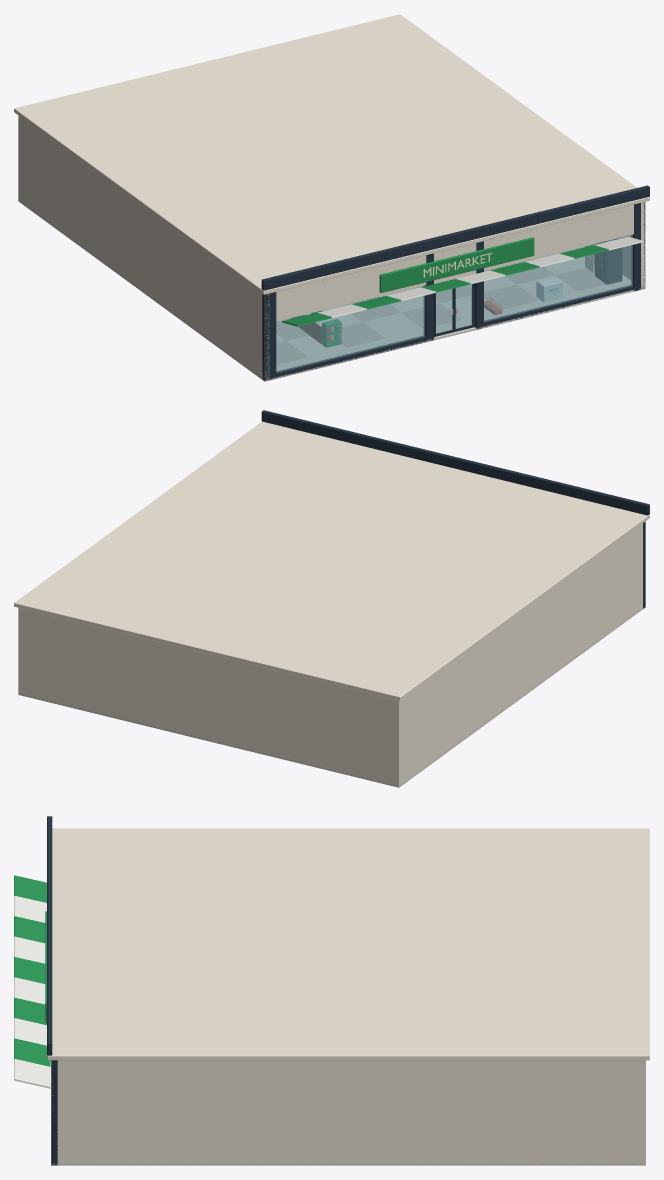
Rendered from Local_Minimarket.fbx.
3 renders of one model, top to bottom at view 1: azimuth 30°, elevation 25°; view 2: azimuth 150°, elevation 25°; view 3: azimuth 270°, elevation 25°, orthographic. The views are drawn at different scales.
Parts seen in each view (by area): view 1: Roof.004, WallSide.007, Floor.003, Storefront.007, Storefront.006, Parapet.004, FloorTiles.004, StoreTop.007, StoreTop.006, SignBoard.004, Pillar.007, StoreBase.007 (+8 smaller); view 2: Roof.004, WallBack.004, WallSide.007, Parapet.004, Floor.003; view 3: Roof.004, WallSide.006, Floor.003, Parapet.004, Awning.009, Pillar.006, WallBack.004, Awning.008, Awning, Awning.007, Awning.001, Awning.006 (+4 smaller).
Boxes of the visible parts, <box> form: Roof.004: <box>14,14,649,294</box>; WallSide.007: <box>18,116,269,381</box>; Floor.003: <box>18,200,645,381</box>; Storefront.007: <box>276,285,425,372</box>; Storefront.006: <box>484,234,632,321</box>; Parapet.004: <box>261,185,649,290</box>; FloorTiles.004: <box>276,259,604,364</box>; StoreTop.007: <box>276,255,426,321</box>; StoreTop.006: <box>484,204,633,270</box>; SignBoard.004: <box>379,237,534,292</box>; Pillar.007: <box>262,292,276,380</box>; StoreBase.007: <box>276,336,426,377</box>; Roof.004: <box>14,421,649,700</box>; WallBack.004: <box>18,608,401,786</box>; WallSide.007: <box>394,523,642,787</box>; Parapet.004: <box>261,410,649,515</box>; Floor.003: <box>18,607,642,787</box>; Roof.004: <box>47,828,649,1060</box>; WallSide.006: <box>51,1060,645,1165</box>; Floor.003: <box>51,1163,645,1165</box>; Parapet.004: <box>47,816,52,1055</box>; Awning.009: <box>14,1059,50,1088</box>; Pillar.006: <box>51,1060,57,1165</box>; WallBack.004: <box>639,1060,645,1165</box>; Awning.008: <box>14,1038,50,1066</box>; Awning: <box>14,875,46,902</box>; Awning.007: <box>14,1018,46,1045</box>; Awning.001: <box>14,895,46,922</box>; Awning.006: <box>14,997,46,1025</box>.
Bounding box in the file's own units: 20.1 × 5.1 × 23.74.
